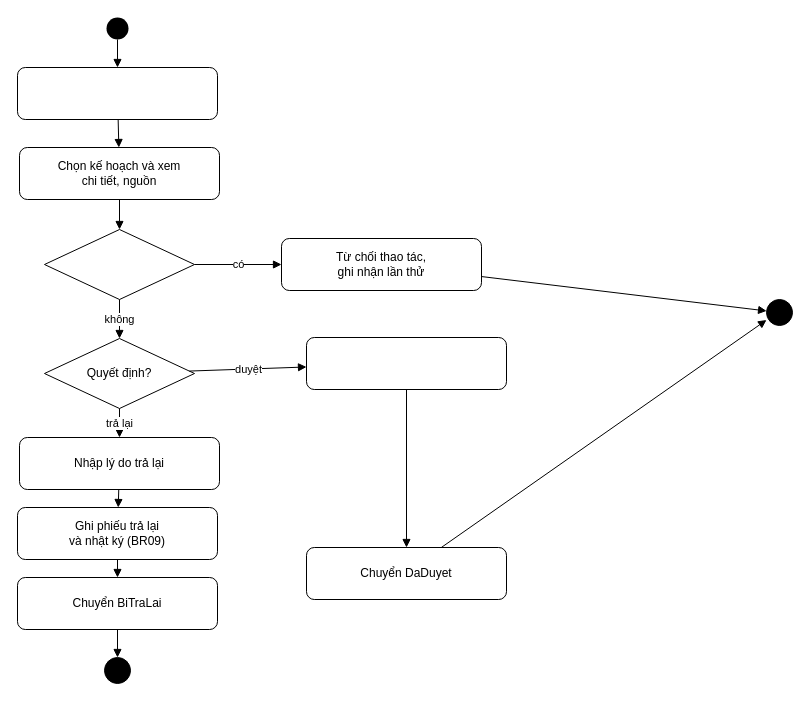
The diagram is 810 pixels wide and 701 high, and some of its shapes have lost their labels. Each missing label, with the box of its shape:
Ghi phiếu duyệt và nhật ký (BR09): (306, 336, 506, 390)
Người duyệt trùng người soạn? (BR02): (44, 228, 194, 300)
Xem danh sách chờ duyệt: (16, 66, 218, 120)
